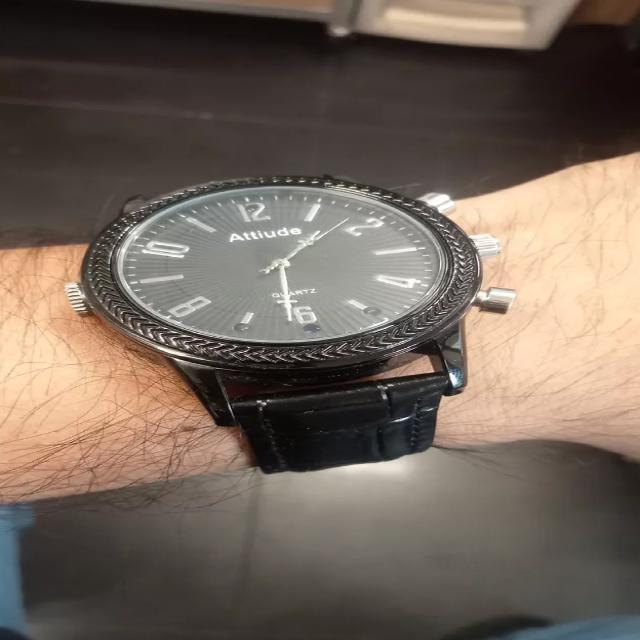hidden camera: (302, 323, 323, 335)
